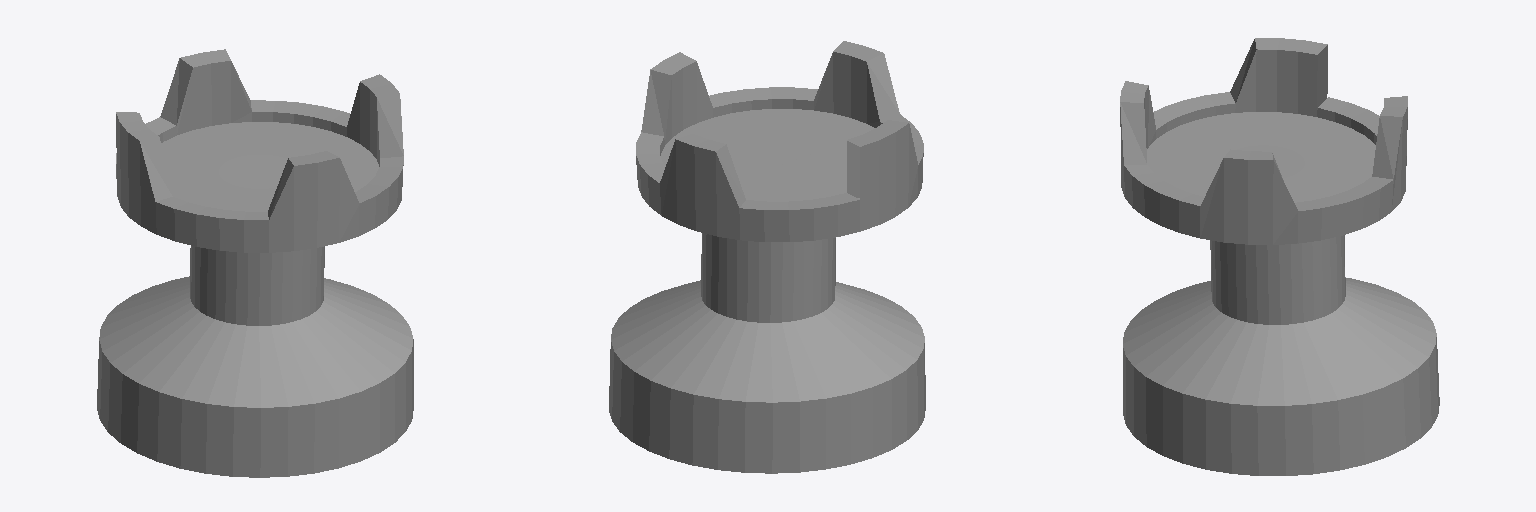
The model's file is whiterook.obj.
3 renders of one model, left to right at view 1: azimuth 30°, elevation 25°; view 2: azimuth 150°, elevation 25°; view 3: azimuth 270°, elevation 25°, orthographic.
Parts seen in each view (by area): view 1: Cube; view 2: Cube; view 3: Cube.
Boxes of the visible parts, x1,y1,x2,y2 form: Cube: [97, 49, 413, 477]; Cube: [609, 41, 925, 473]; Cube: [1120, 38, 1439, 475].
Bounding box in the file's own units: 2.58 × 2.8 × 2.6.